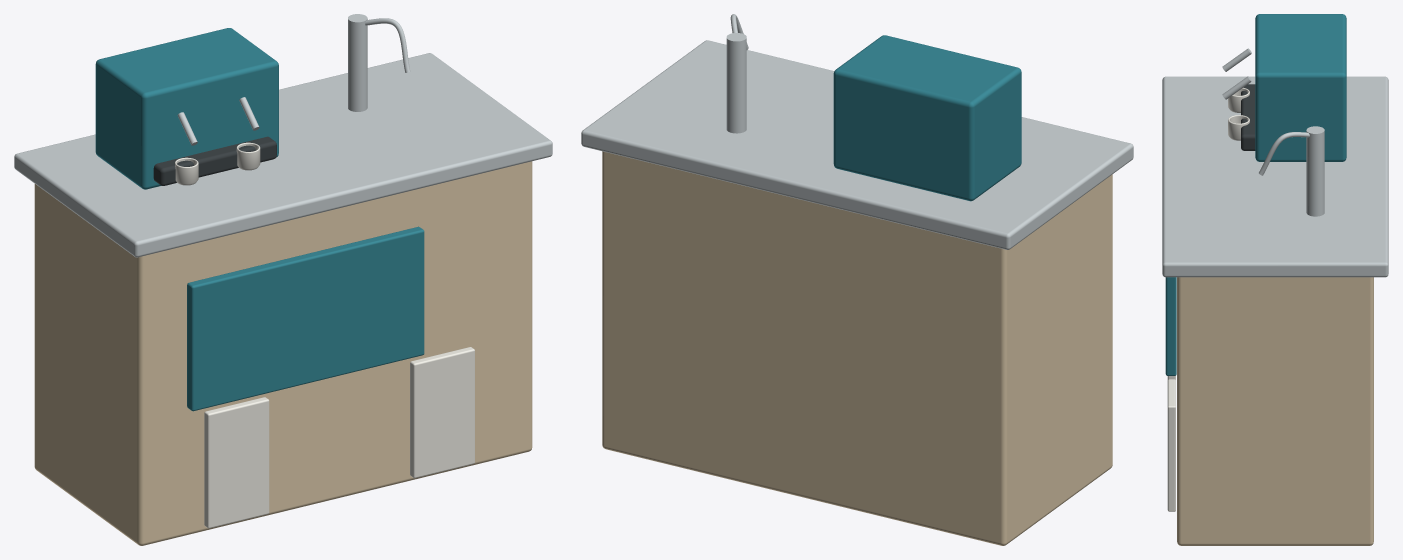
Rendered from bicycle-shop-and-repair-cafe-cafe-service-counter-3c28268a__32426.glb.
3 views of the same model, side by side, from view 1: azimuth 30°, elevation 25°; view 2: azimuth 150°, elevation 25°; view 3: azimuth 270°, elevation 25° (orthographic). The views are drawn at different scales.
Parts seen in each view (by area): view 1: cafe-service-counter; view 2: cafe-service-counter; view 3: cafe-service-counter.
Boxes of the visible parts, box(x1,y1,x2,y2) form: cafe-service-counter: box(14, 14, 552, 545); cafe-service-counter: box(581, 14, 1133, 545); cafe-service-counter: box(1162, 14, 1388, 545).
Size of the model in its own units: 1.22 by 1.15 by 0.6201.
